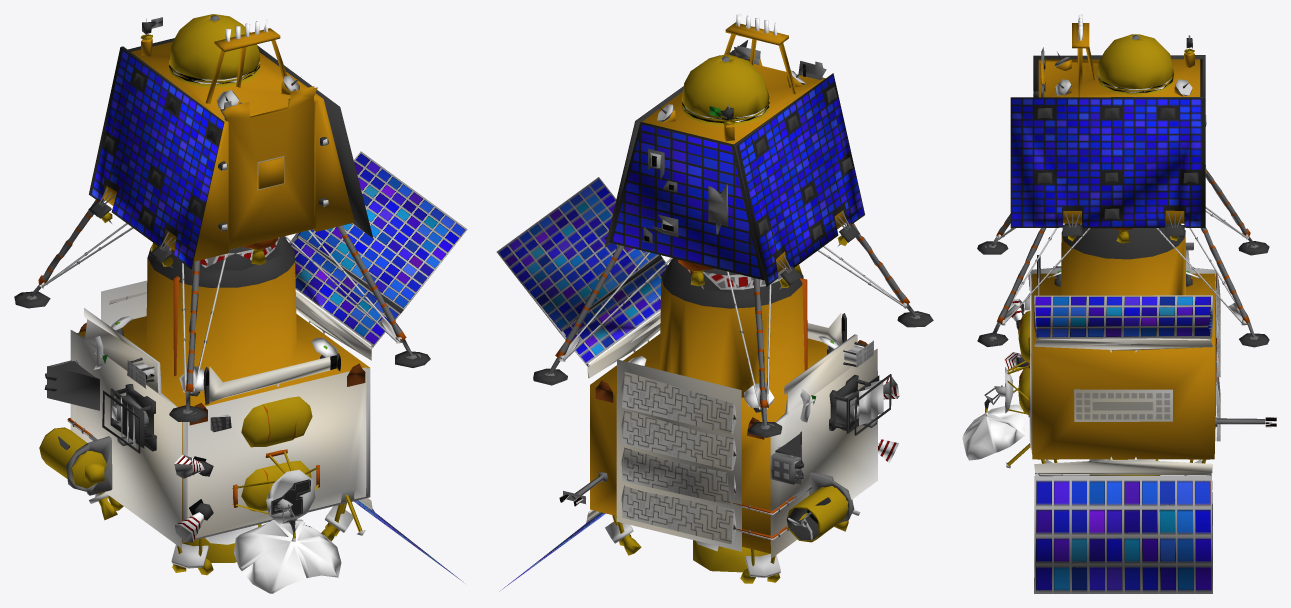
The model's file is Satellite_Geo.fbx.
The picture shows the model from 3 angles, left to right: view 1: azimuth 30°, elevation 25°; view 2: azimuth 150°, elevation 25°; view 3: azimuth 270°, elevation 25°; orthographic projection. The views are drawn at different scales.
Parts seen in each view (by area): view 1: Vikram_Lander; view 2: Vikram_Lander; view 3: Vikram_Lander.
Part boxes in pixels (<box>): Vikram_Lander: <box>14,14,467,593</box>; Vikram_Lander: <box>496,14,933,591</box>; Vikram_Lander: <box>962,14,1276,593</box>.
Size of the model in its own units: 64.67 by 109 by 63.
Materials: 4 (2 with a texture image).
